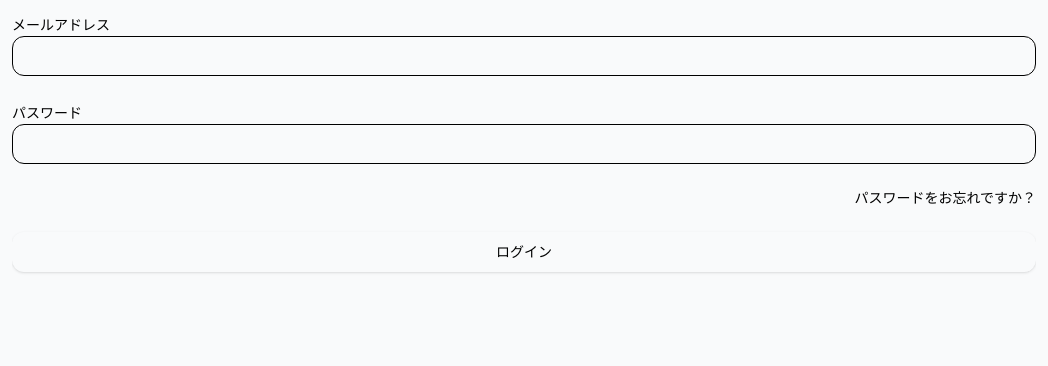
LoginForm › ログイン失敗時にエラーメッセージが表示される
This screenshot has width=1048, height=366.
In the field labelled "メールアドレス": (524, 56) [12,36,1036,76], type "test@example.com"
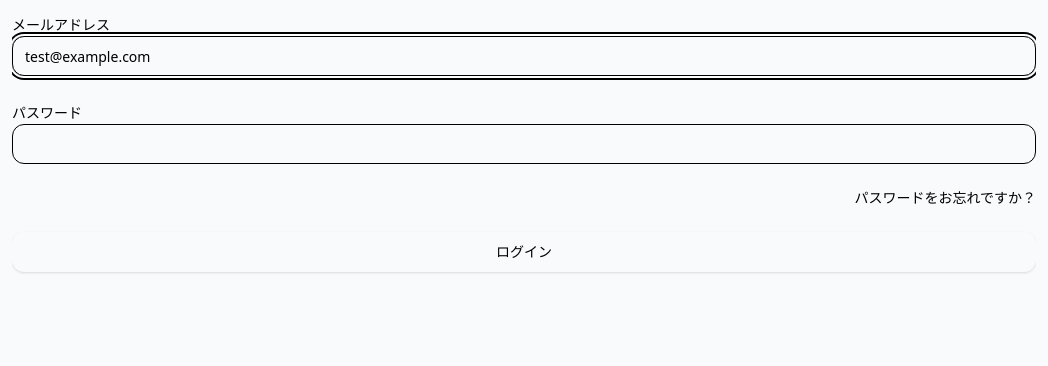
In the password field labelled "パスワード": (524, 144) [12,124,1036,164], type "WrongPassword123"
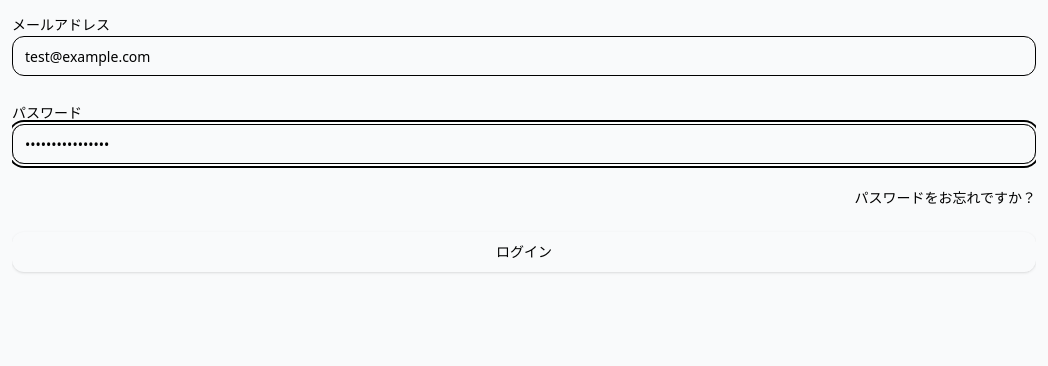
Click the button "ログイン": (524, 252) [12,232,1036,272]
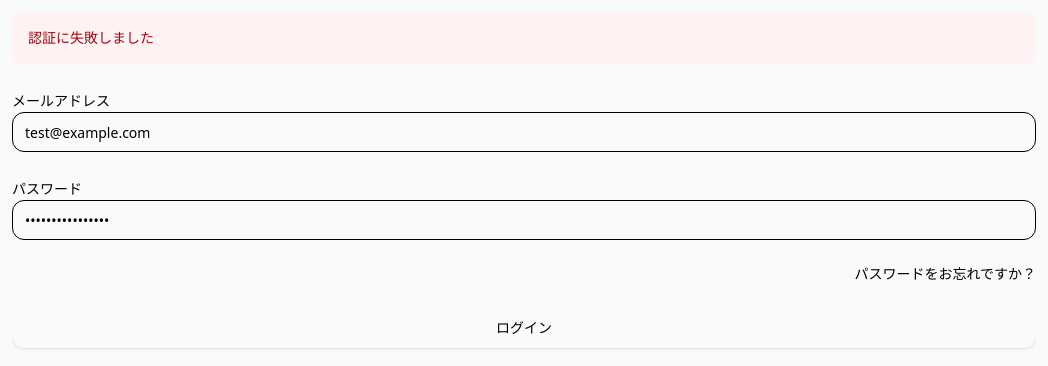
Expected: the text "認証に失敗しました" is shown, [12,12,1036,64]
